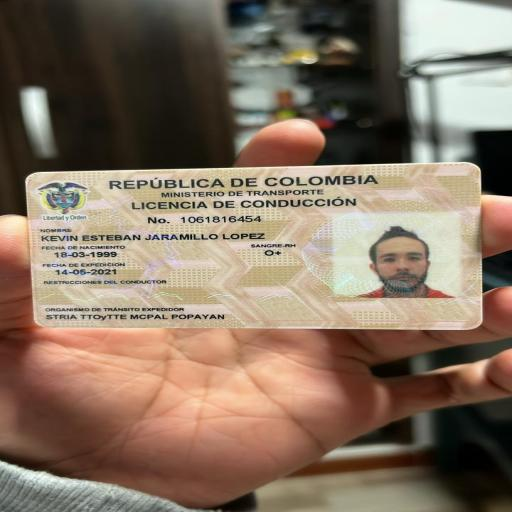colombia: (97, 173, 394, 191)
escudo de colombia: (34, 178, 98, 226)
fechaexpedicion: (43, 267, 124, 281)
fechanacimiento: (48, 249, 134, 261)
foto: (341, 216, 452, 298)
ministerio de transporte: (153, 187, 340, 204)
nombre: (36, 228, 277, 247)
numerolic: (138, 214, 276, 232)
tarjeta conduccion: (26, 163, 480, 328)
titulo licencia: (121, 195, 371, 214)
